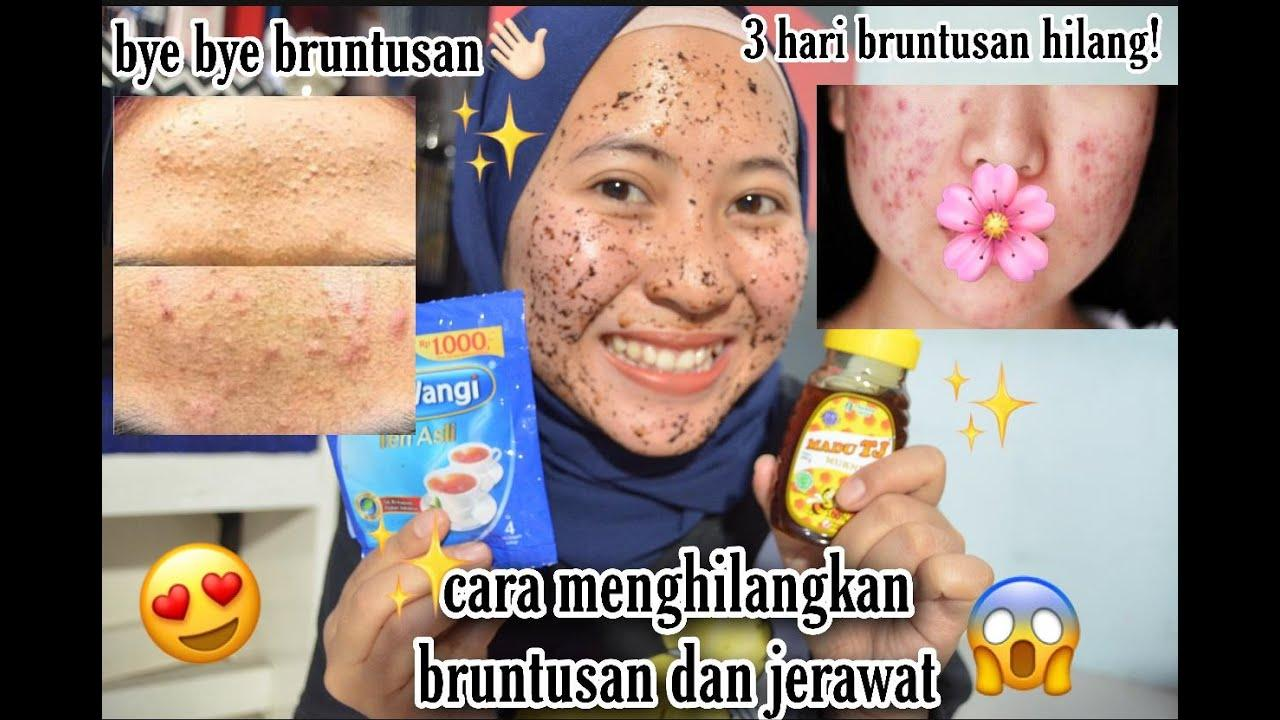Acne: (111, 273, 410, 433), (111, 93, 412, 245), (847, 89, 950, 282), (1057, 89, 1160, 262)
